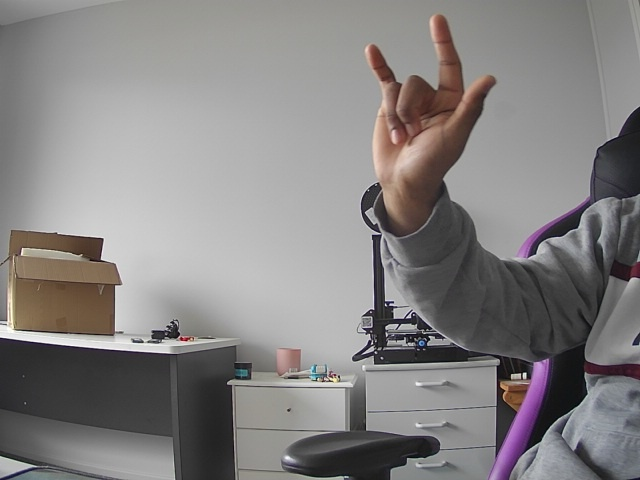ILoveYou: (352, 8, 513, 208)
